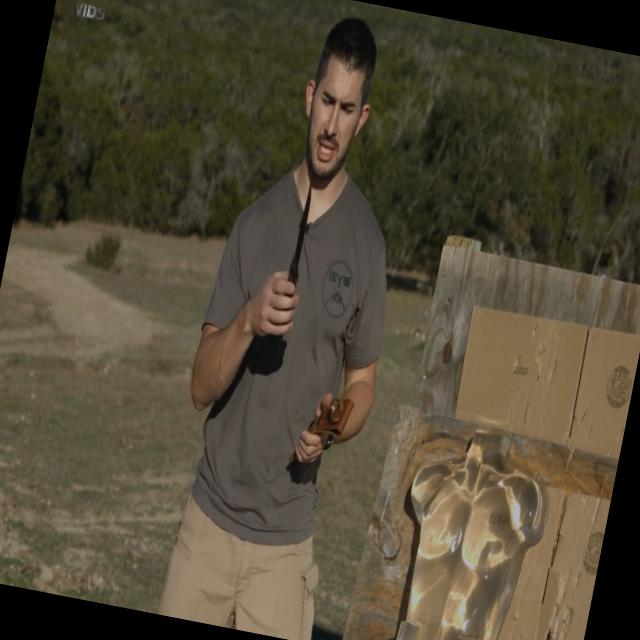knife: (250, 166, 326, 346)
